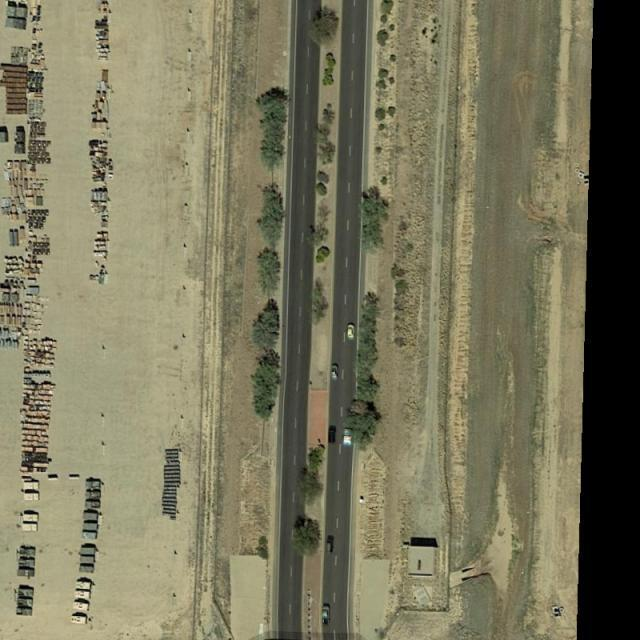vehicle: (320, 604, 331, 624), (342, 427, 352, 446), (346, 323, 357, 339), (328, 427, 337, 443), (330, 363, 339, 378), (326, 538, 334, 554)
